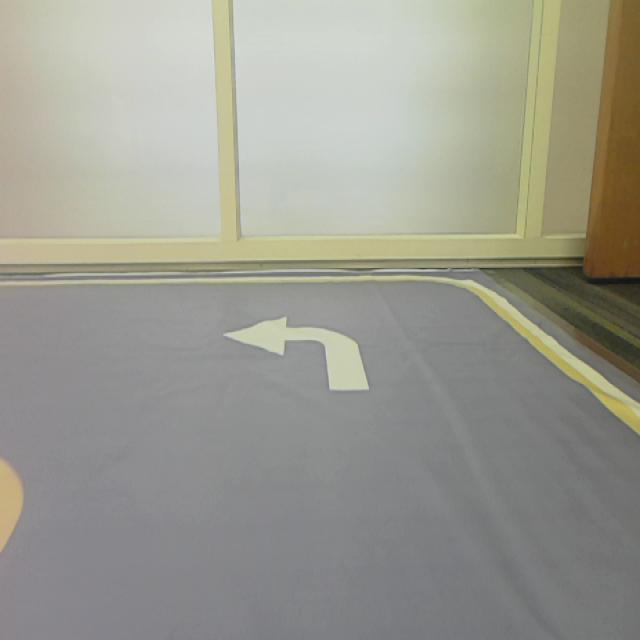left_lane: (0, 471, 18, 544)
right_lane: (476, 293, 640, 437)
